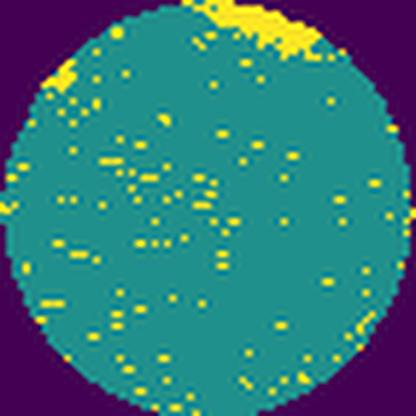Edge-Loc: (181, 0, 350, 68)
